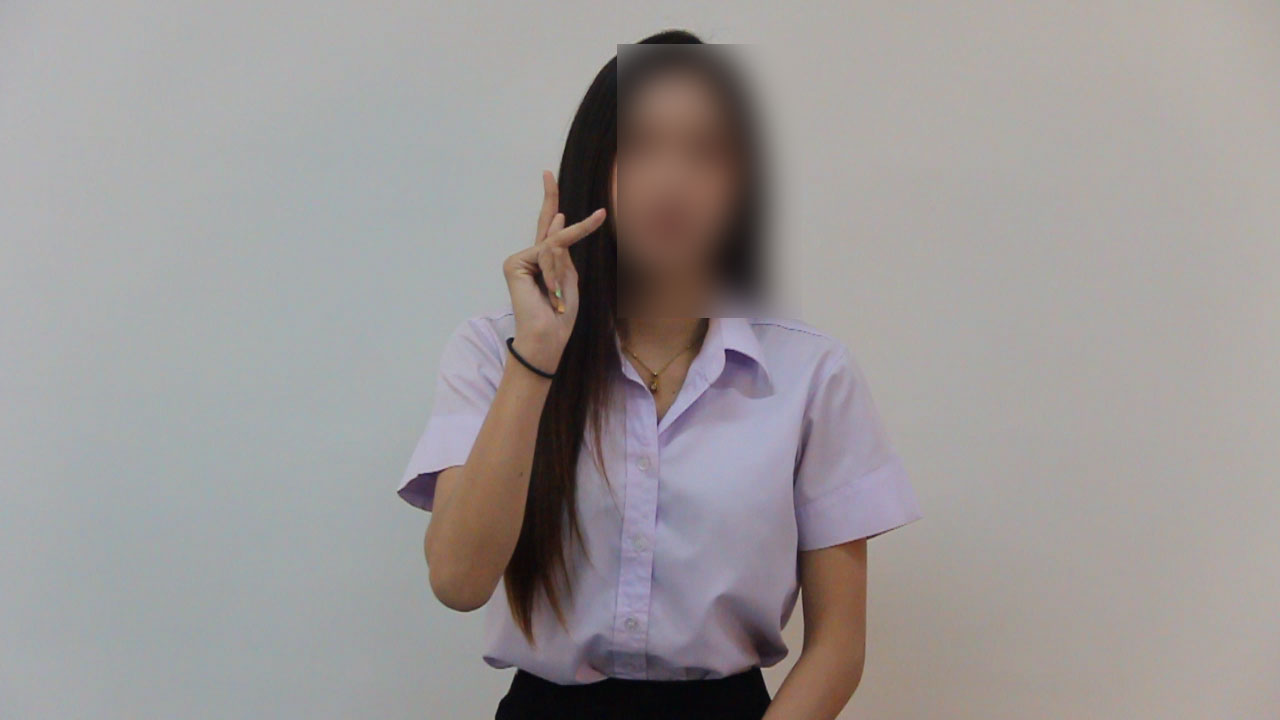ko: (485, 163, 620, 337)
